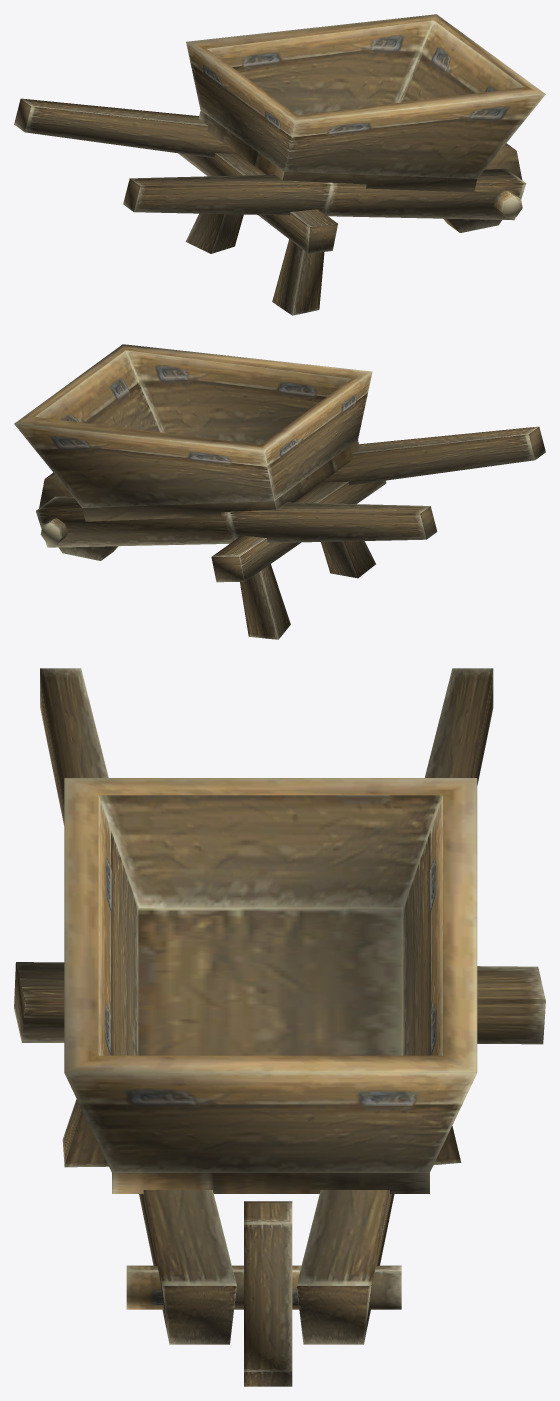
Rendered from caveminewheelbarrow01.glb.
The picture shows the model from 3 angles, top to bottom: view 1: azimuth 30°, elevation 25°; view 2: azimuth 150°, elevation 25°; view 3: azimuth 270°, elevation 25°; orthographic projection. The views are drawn at different scales.
Bounding box in the file's own units: 2.89 × 1.24 × 1.58.
1 material, 1 textured.
